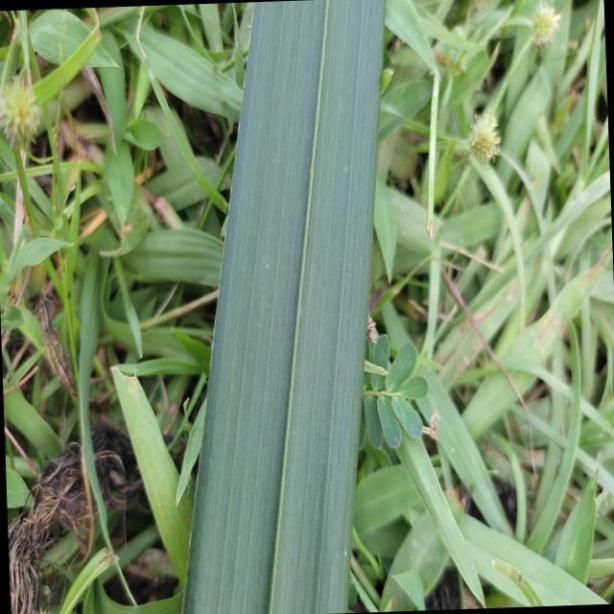Healthy: (192, 0, 393, 614)
